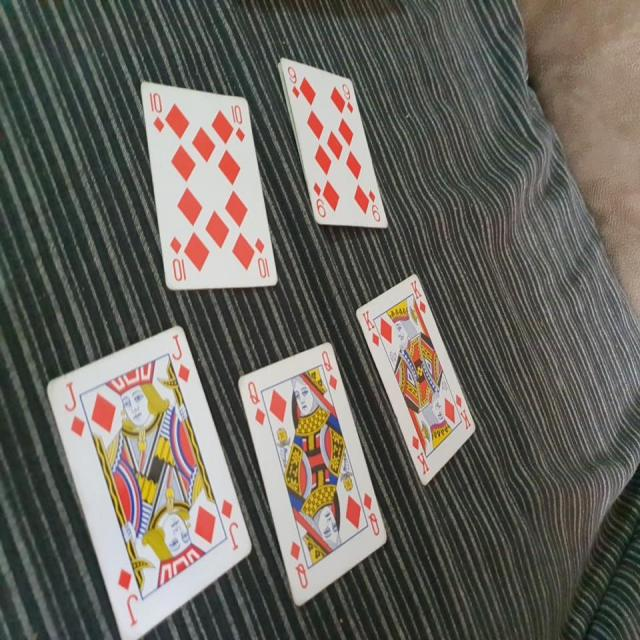10 Diamonds: (139, 79, 278, 293)
9 Diamonds: (279, 55, 390, 232)
J Diamonds: (44, 322, 253, 636)
K Diamonds: (354, 272, 477, 486)
Q Diamonds: (234, 340, 390, 608)
